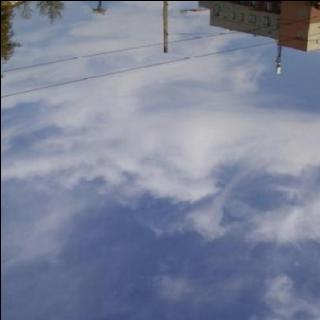Cirrus: (0, 28, 320, 320)
